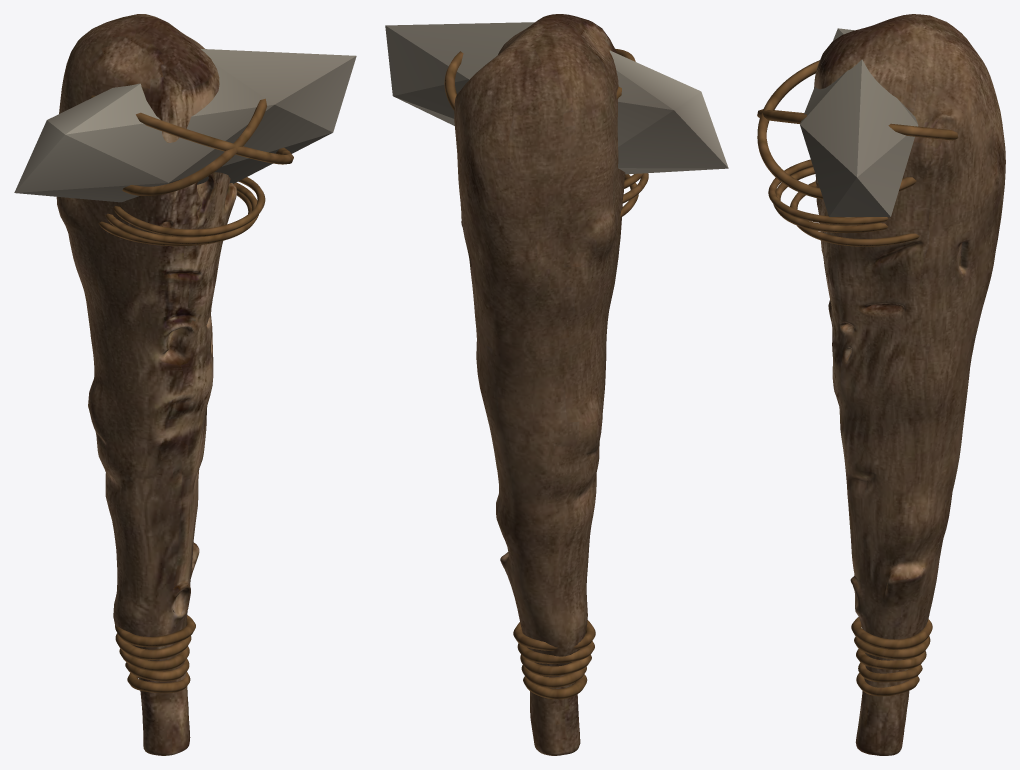
Rendered from stone_club.glb.
3 views of the same model, side by side, from view 1: azimuth 30°, elevation 25°; view 2: azimuth 150°, elevation 25°; view 3: azimuth 270°, elevation 25° (orthographic).
Visible parts, largest first — view 1: club, stone; view 2: club, stone; view 3: club, stone.
Boxes of the visible parts, x1,y1,x2,y2 form: club: [56, 14, 237, 755]; stone: [14, 49, 356, 693]; club: [454, 14, 625, 755]; stone: [385, 22, 728, 699]; club: [814, 14, 1005, 755]; stone: [757, 28, 958, 696].
Size of the model in its own units: 0.4529 by 0.9201 by 0.2857.
2 materials, 1 textured.
